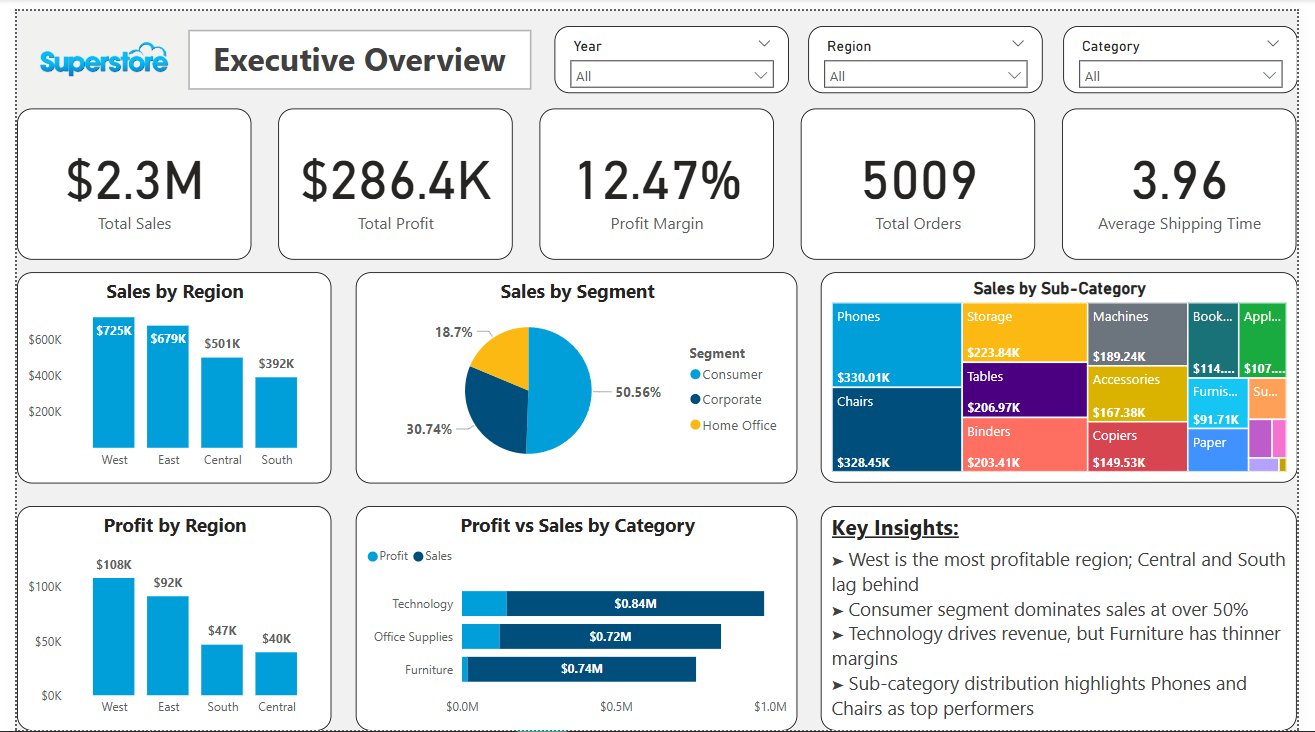

What the dashboard file says about the page in this screenshot:
{"tool":"powerbi","page":{"name":"Executive Overview","canvas":[1280,720],"ordinal":0},"visuals":[{"type":"card","fields":{"Values":["_measures.Total Sales"]},"box":[0,97.4,234.6,150.9],"z":0},{"type":"card","fields":{"Values":["_measures.Total Profit"]},"box":[261.4,97.4,234.6,150.9],"z":1000},{"type":"card","fields":{"Values":["_measures.Profit Margin"]},"box":[522.8,97.4,234.6,150.9],"z":2000},{"type":"card","fields":{"Values":["_measures.Total Orders"]},"box":[784.2,97.4,234.6,150.9],"z":3000},{"type":"card","fields":{"Values":["_measures.Average Shipping Time"]},"box":[1045.4,97.4,234.6,150.9],"z":4000},{"type":"clusteredColumnChart","title":"Sales by Region","fields":{"Category":["Superstore.Region"],"Y":["Sum(Superstore.Sales)"]},"box":[0,260.7,314.2,211.3],"z":5000},{"type":"clusteredColumnChart","title":"Profit by Region","fields":{"Category":["Superstore.Region"],"Y":["Sum(Superstore.Profit)"]},"box":[0,495.4,314.2,225],"z":6000},{"type":"pieChart","title":"Sales by Segment","fields":{"Y":["Sum(Superstore.Sales)"],"Category":["Superstore.Segment"]},"box":[338.3,260.7,441.9,211.3],"z":7000},{"type":"barChart","title":"Profit vs Sales by Category","fields":{"Y":["Sum(Superstore.Profit)","Sum(Superstore.Sales)"],"Category":["Superstore.Category"]},"box":[338.3,495.4,441.9,225],"z":8000},{"type":"treemap","title":"Sales by Sub-Category","fields":{"Values":["Sum(Superstore.Sales)"],"Group":["Superstore.Sub-Category"]},"box":[803.6,261.2,476.4,210.2],"z":9000},{"type":"slicer","fields":{"Values":["Superstore.Order Date.Variation.Date Hierarchy.Year"]},"box":[537.9,15.1,234.6,67.2],"z":10000},{"type":"slicer","fields":{"Values":["Superstore.Region"]},"box":[791.8,15.1,234.6,67.2],"z":11000},{"type":"slicer","fields":{"Values":["Superstore.Category"]},"box":[1045.6,15.1,234.6,67.2],"z":12000},{"type":"image","box":[0,0,171.5,97.4],"z":13000},{"type":"textbox","title":"Key Insights:","box":[803.8,495.4,476.2,225],"z":14000},{"type":"textbox","box":[171.5,19.2,343.1,60.4],"z":15000}]}

Visuals, with their boxes in screenshot pixels (x1, y1, x2, y2), scaled from the page's 1280x720 canvas onto the 1315x732 screenshot:
card - _measures.Total Sales: {"x1": 0, "y1": 99, "x2": 241, "y2": 252}
card - _measures.Total Profit: {"x1": 269, "y1": 99, "x2": 510, "y2": 252}
card - _measures.Profit Margin: {"x1": 537, "y1": 99, "x2": 778, "y2": 252}
card - _measures.Total Orders: {"x1": 806, "y1": 99, "x2": 1047, "y2": 252}
card - _measures.Average Shipping Time: {"x1": 1074, "y1": 99, "x2": 1314, "y2": 252}
"Sales by Region" clusteredColumnChart: {"x1": 0, "y1": 265, "x2": 323, "y2": 480}
"Profit by Region" clusteredColumnChart: {"x1": 0, "y1": 504, "x2": 323, "y2": 731}
"Sales by Segment" pieChart: {"x1": 348, "y1": 265, "x2": 802, "y2": 480}
"Profit vs Sales by Category" barChart: {"x1": 348, "y1": 504, "x2": 802, "y2": 731}
"Sales by Sub-Category" treemap: {"x1": 826, "y1": 266, "x2": 1314, "y2": 479}
slicer - Superstore.Order Date.Variation.Date Hierarchy.Year: {"x1": 553, "y1": 15, "x2": 794, "y2": 84}
slicer - Superstore.Region: {"x1": 813, "y1": 15, "x2": 1054, "y2": 84}
slicer - Superstore.Category: {"x1": 1074, "y1": 15, "x2": 1314, "y2": 84}
image: {"x1": 0, "y1": 0, "x2": 176, "y2": 99}
"Key Insights:" textbox: {"x1": 826, "y1": 504, "x2": 1314, "y2": 731}
textbox: {"x1": 176, "y1": 20, "x2": 529, "y2": 81}
